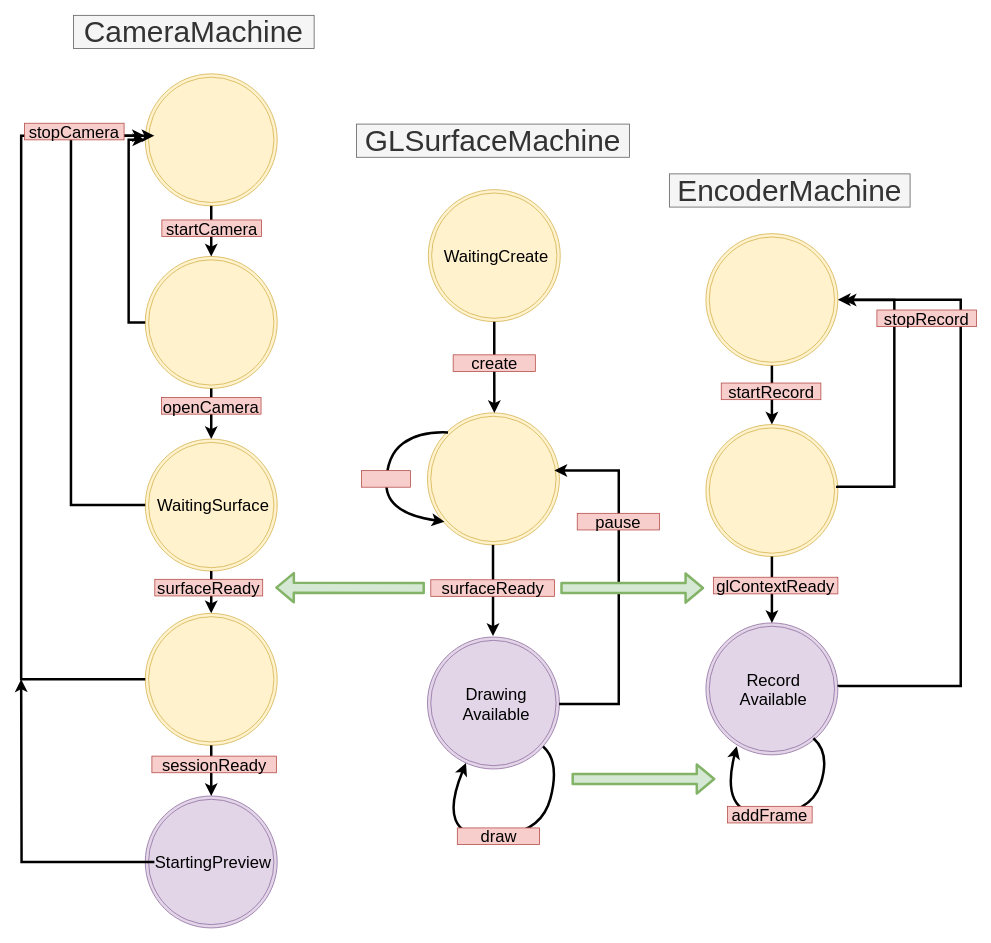
This 991x943 diagram has some shape labels left out. The shapes that lost their labels are listed below. From the top down, each one's centre as x and y in pixels, then its label:
the point at 210,139: WaitingStart
the point at 771,299: Waiting StartRecord
the point at 210,322: WaitingOpen
the point at 385,478: start
the point at 493,478: Waiting SurfaceReady
the point at 771,490: Waiting GLContext
the point at 210,679: WaitingSession
